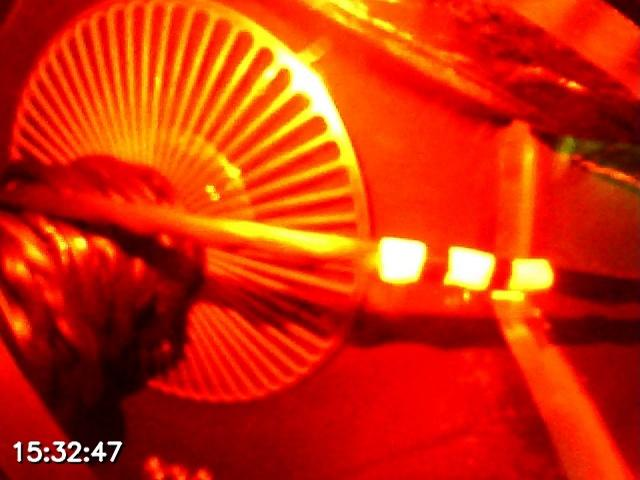white-dots: (377, 237, 553, 294)
